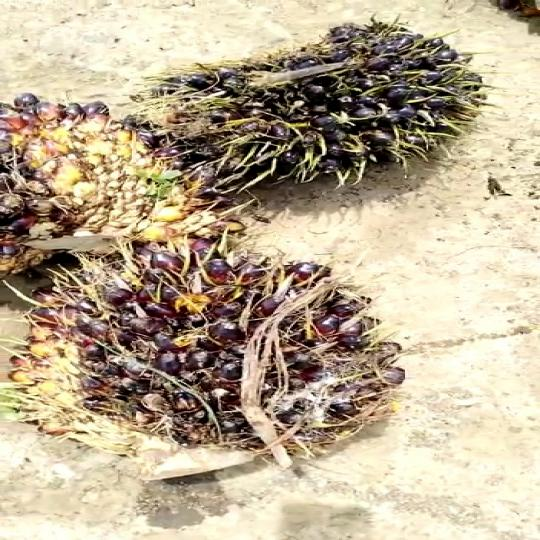mentah: (20, 237, 434, 494), (136, 12, 489, 212)
